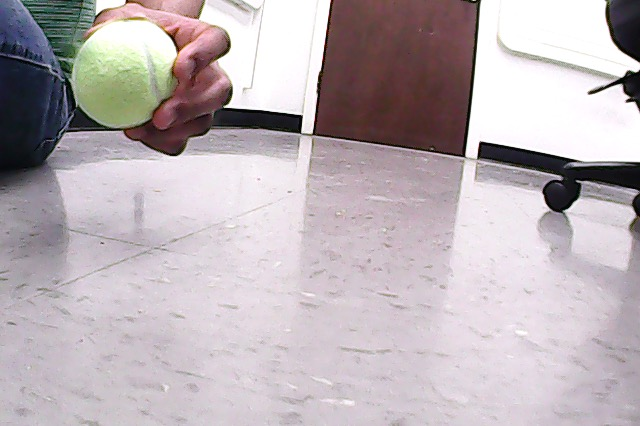ball: (73, 20, 180, 130)
